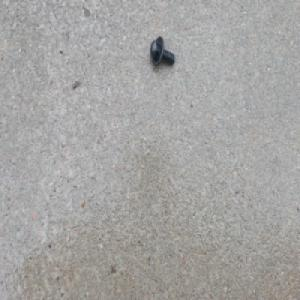BoltWasher: (149, 34, 175, 67)
